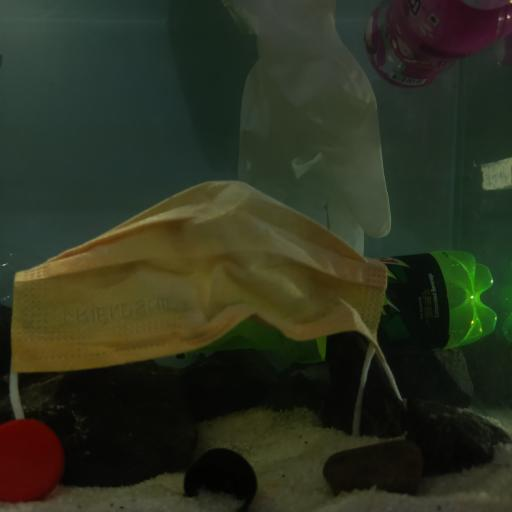bottle_cap: (0, 418, 64, 503), (183, 447, 256, 512)
glove: (223, 0, 392, 257)
mask: (10, 180, 388, 403)
plastic_bottle: (172, 250, 498, 364), (364, 0, 512, 92)
